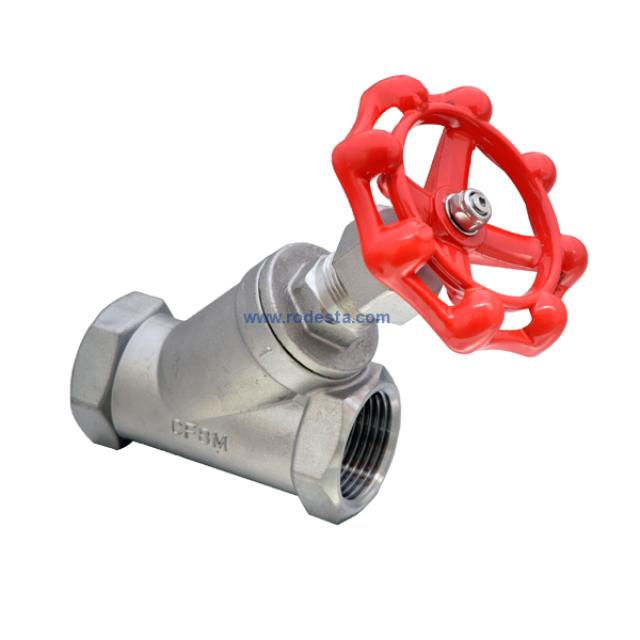Wheel Handle Valve Threaded: (320, 67, 600, 376)
